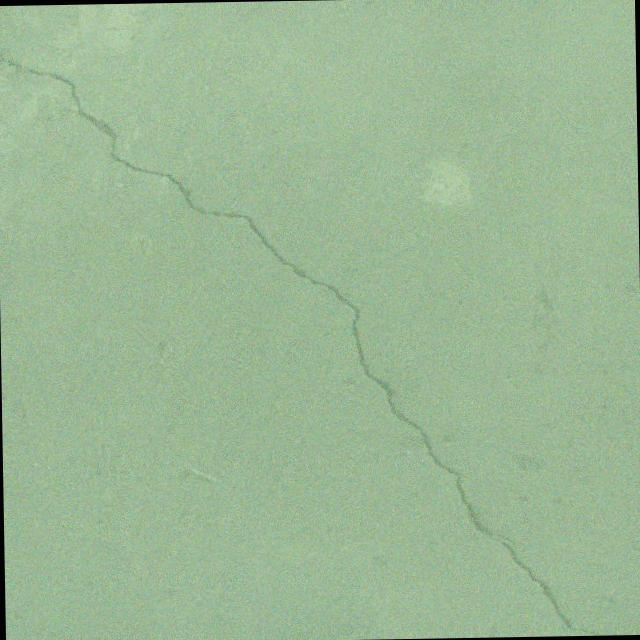crack: (0, 37, 598, 640)
